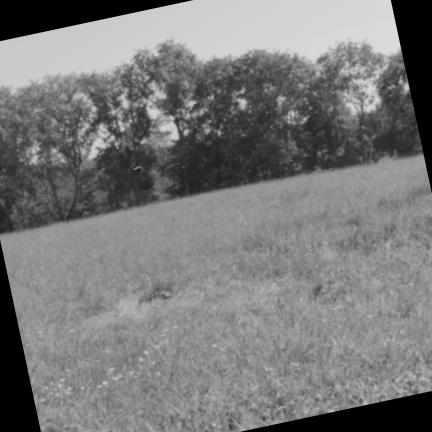Shahed: (131, 165, 143, 171)
